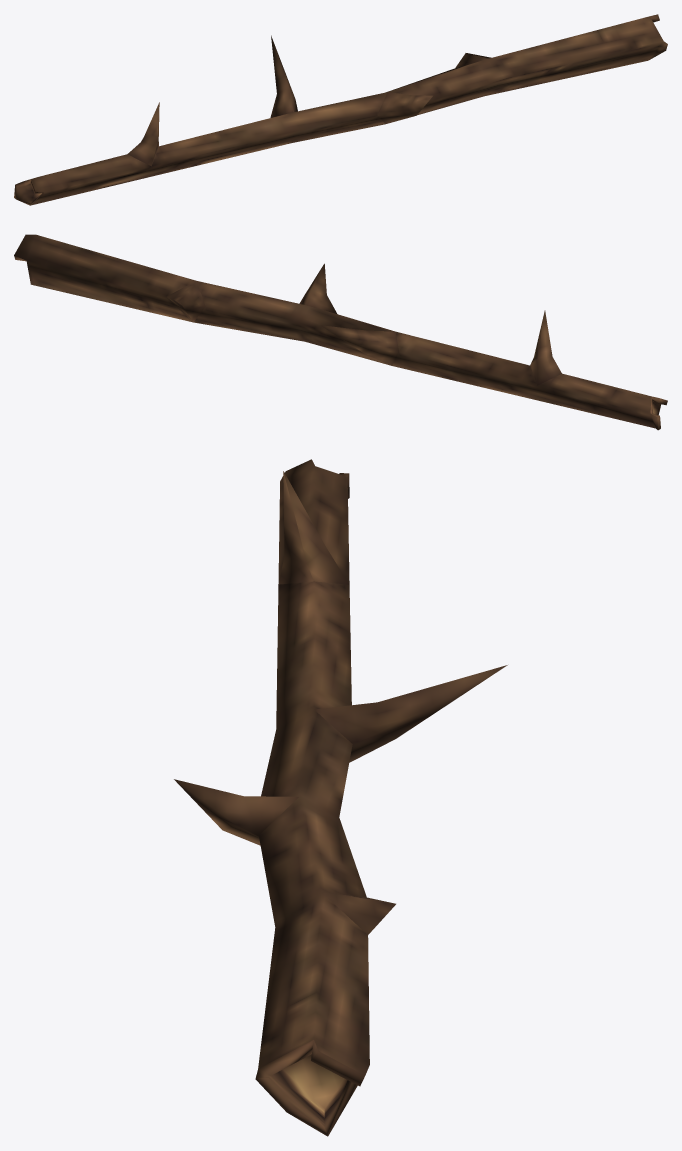
Rendered from e_tree_9.FBX.
The picture shows the model from 3 angles, top to bottom: view 1: azimuth 30°, elevation 25°; view 2: azimuth 150°, elevation 25°; view 3: azimuth 270°, elevation 25°; orthographic projection. The views are drawn at different scales.
Visible parts, largest first — view 1: polySurface42; view 2: polySurface42; view 3: polySurface42.
Part boxes in pixels (left/top/right/bottom): polySurface42: left=14, top=14, right=667, bottom=205; polySurface42: left=14, top=234, right=667, bottom=430; polySurface42: left=174, top=459, right=507, bottom=1136.
Size of the model in its own units: 141 by 31.98 by 18.78.
